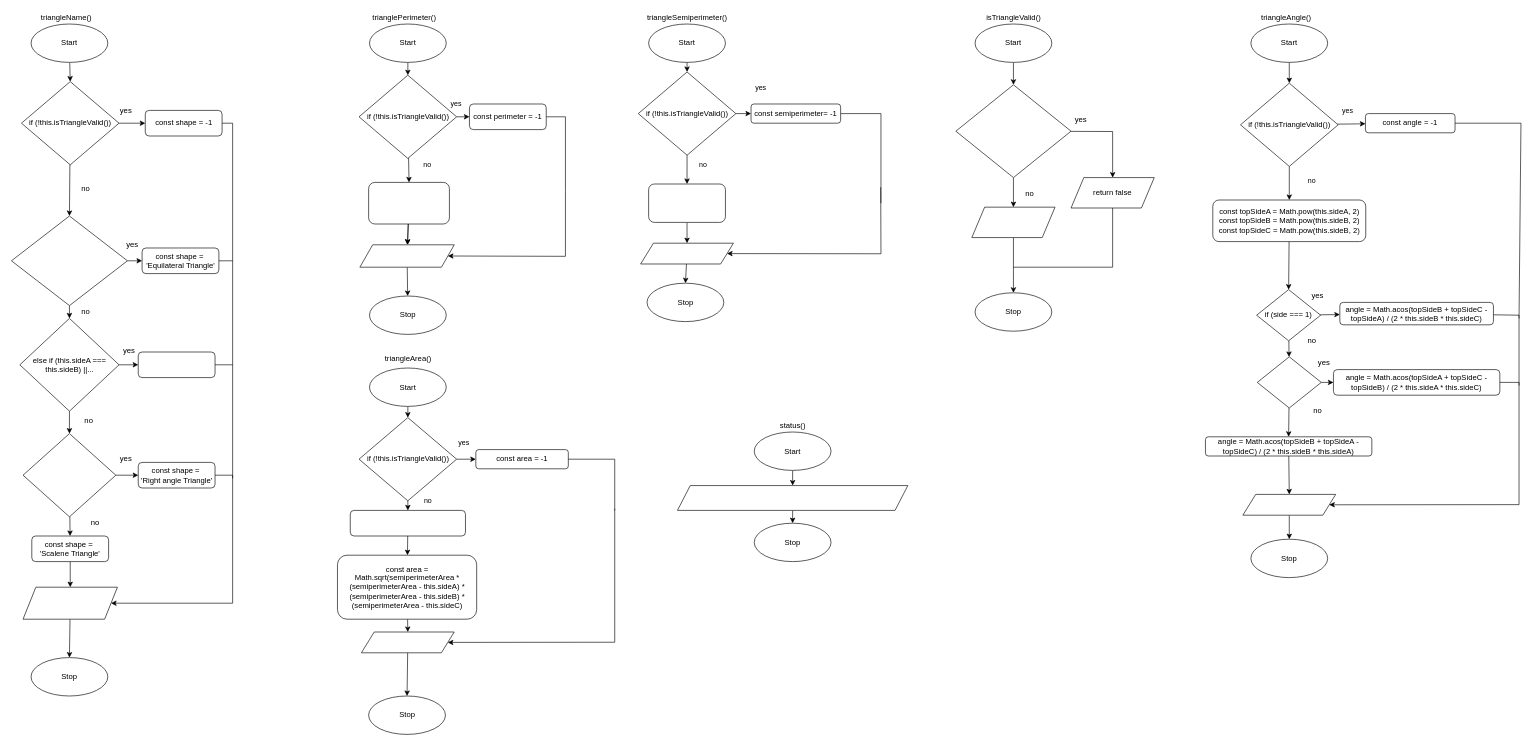
This 1535x746 diagram has some shape labels left out. The shapes that lost their labels are listed below. From the top down, each one's centre as x and y in pixels, then its label:
At (1013,131): "if (this.sideA + this.sideB <= this.sideC). || ..".
At (408,203): "const perimeter = this.sideA + this.sideB + this.sideC".
At (686,202): "const semipermiter= this.trianglePerimeter() / 2".
At (1013,222): "return true".
At (69,260): "else if (this.side A === this.sideB &&this.sideB === this.sideC)".
At (406,255): "return perimeter".
At (686,253): "return semiperimeter".
At (176,364): "const shape = 'Isosceles Triangle'".
At (1289,382): "if (side === 2)".
At (69,475): "else if (this.sideA ** 2 + this.sideB ** 2= this.sideC ** 2)...".
At (792,497): "console.log(`Triangle Validity Status: ${this.isTriangleValid()}`)".
At (1289,504): "return angle".
At (407,523): "const semipermieterArea = this.triangleSemiperimeter()".
At (69,603): "return shape".
At (407,642): "return area".
